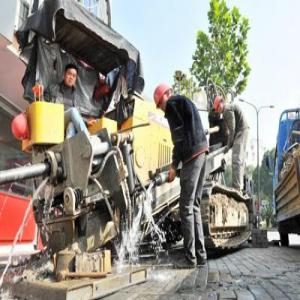none: (64, 63, 79, 92)
red: (153, 83, 172, 113), (214, 95, 226, 115)
